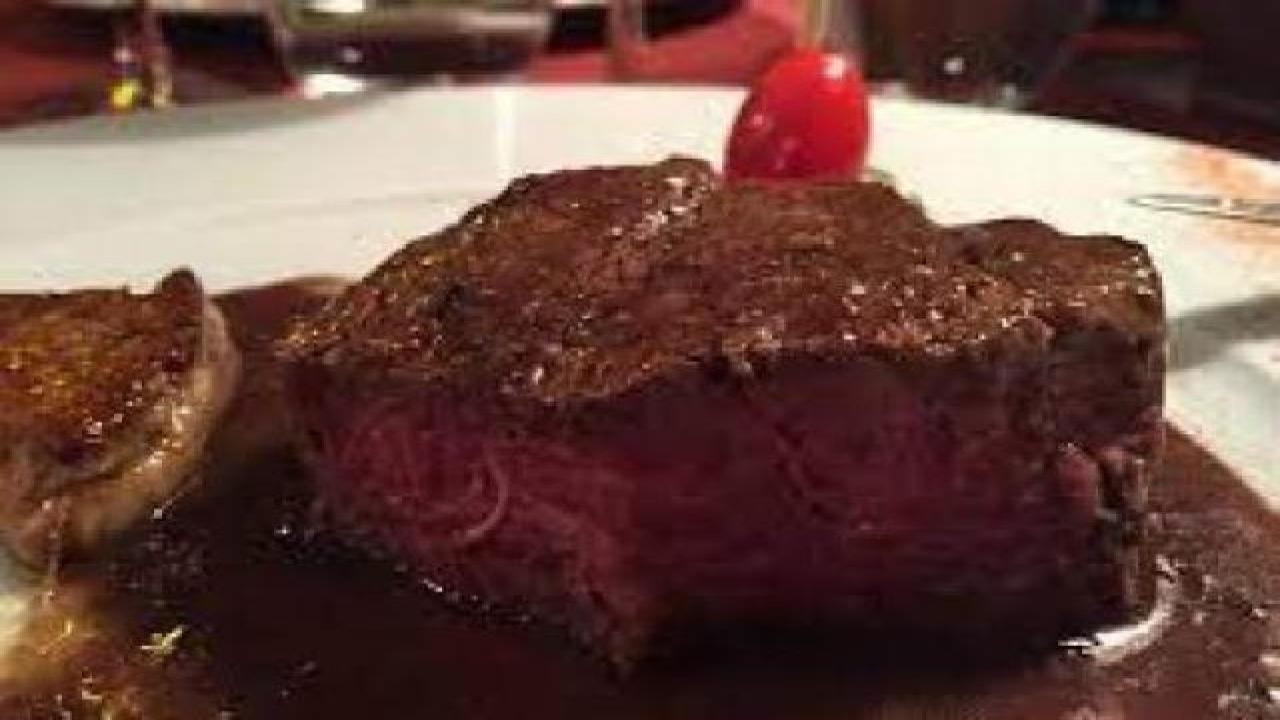done: (253, 140, 1237, 644)
